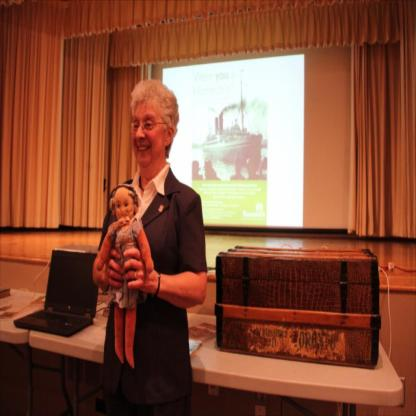board: (13, 246, 98, 337)
